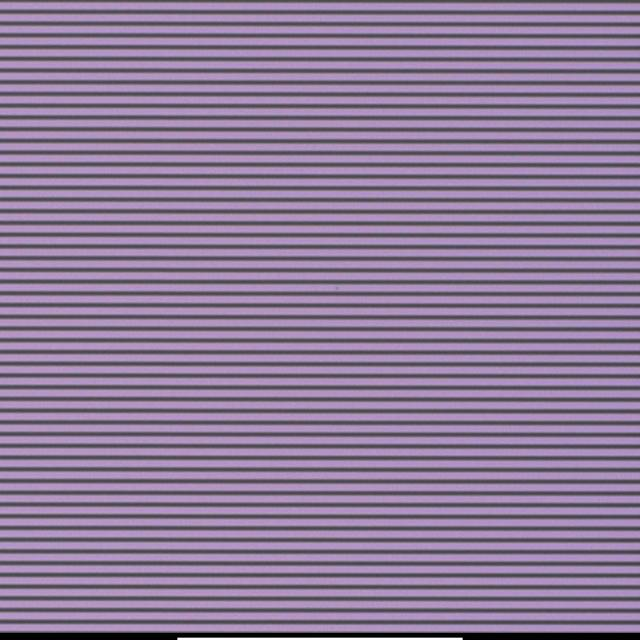nonvisual: (334, 283, 342, 293)
